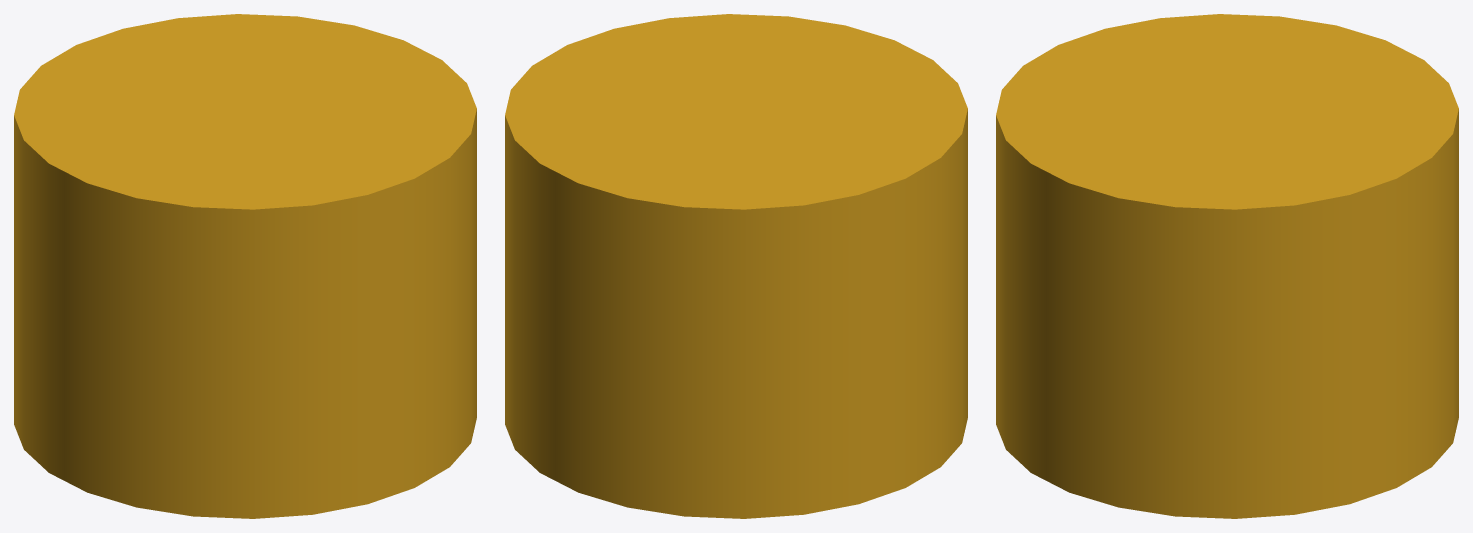
File: original-14.obj
The picture shows the model from 3 angles, left to right: view 1: azimuth 30°, elevation 25°; view 2: azimuth 150°, elevation 25°; view 3: azimuth 270°, elevation 25°; orthographic projection.
Parts seen in each view (by area): view 1: group_13/ID97#ID97; view 2: group_13/ID97#ID97; view 3: group_13/ID97#ID97.
Boxes of the visible parts, x1=… form: group_13/ID97#ID97: x1=14, y1=14, x2=476, y2=518; group_13/ID97#ID97: x1=505, y1=14, x2=967, y2=518; group_13/ID97#ID97: x1=996, y1=14, x2=1458, y2=518.
Size of the model in its own units: 0.134 by 0.0988 by 0.134.
